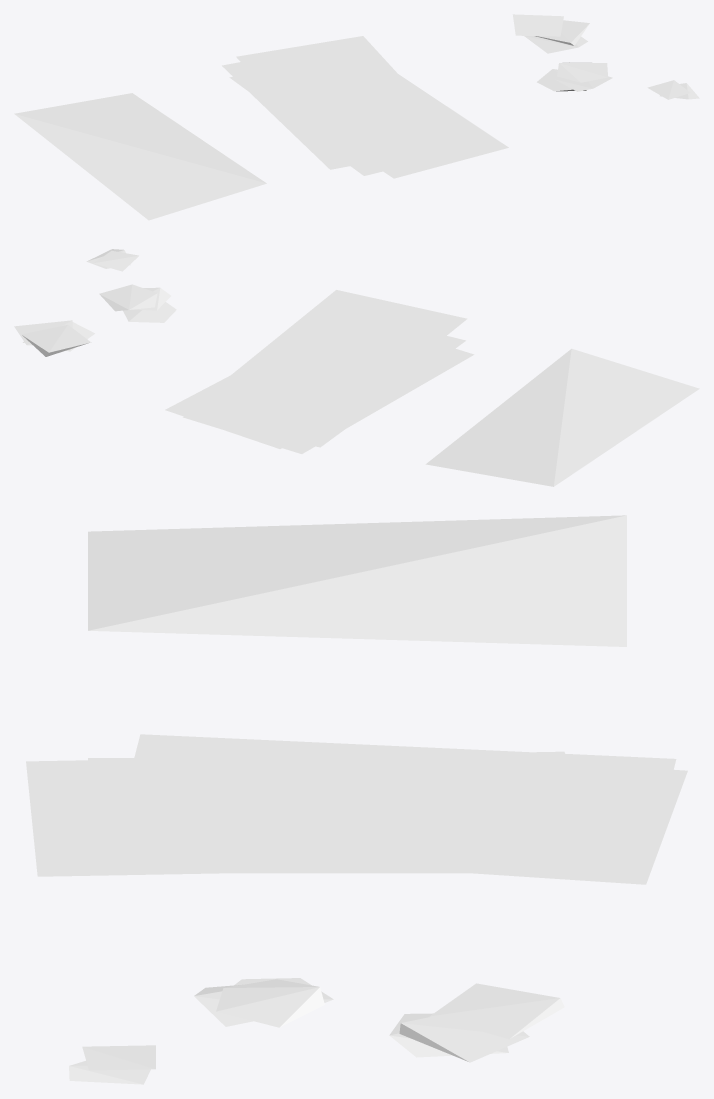
3 renders of one model, top to bottom at view 1: azimuth 30°, elevation 25°; view 2: azimuth 150°, elevation 25°; view 3: azimuth 270°, elevation 25°, orthographic. The views are drawn at different scales.
Bounding box in the file's own units: 0.1697 × 0.00499 × 0.0881.
1 material, 1 textured.
